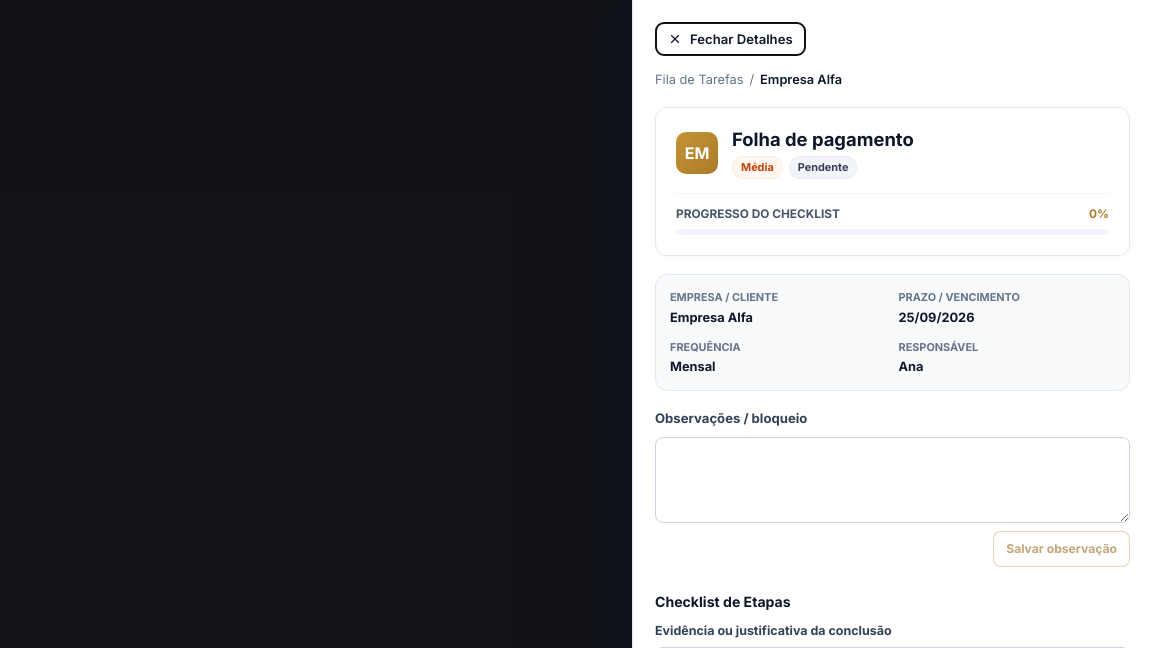
it: TaskDetailsDrawer › mantém o rascunho e mostra o erro quando a observação falha
Step 1. Type "Rascunho preservado." into the text box labelled "Observações / bloqueio" → (892, 480), box [655,437,1130,523]
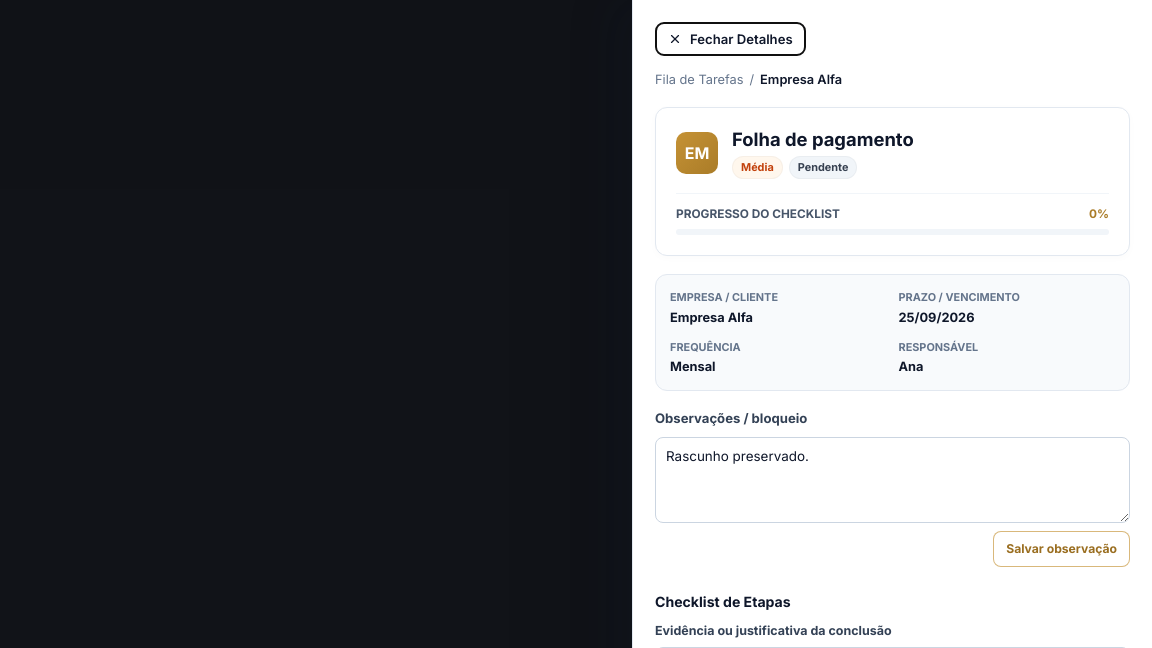
Step 2. Click the button "Salvar observação" → (1062, 549), box [993,531,1130,567]
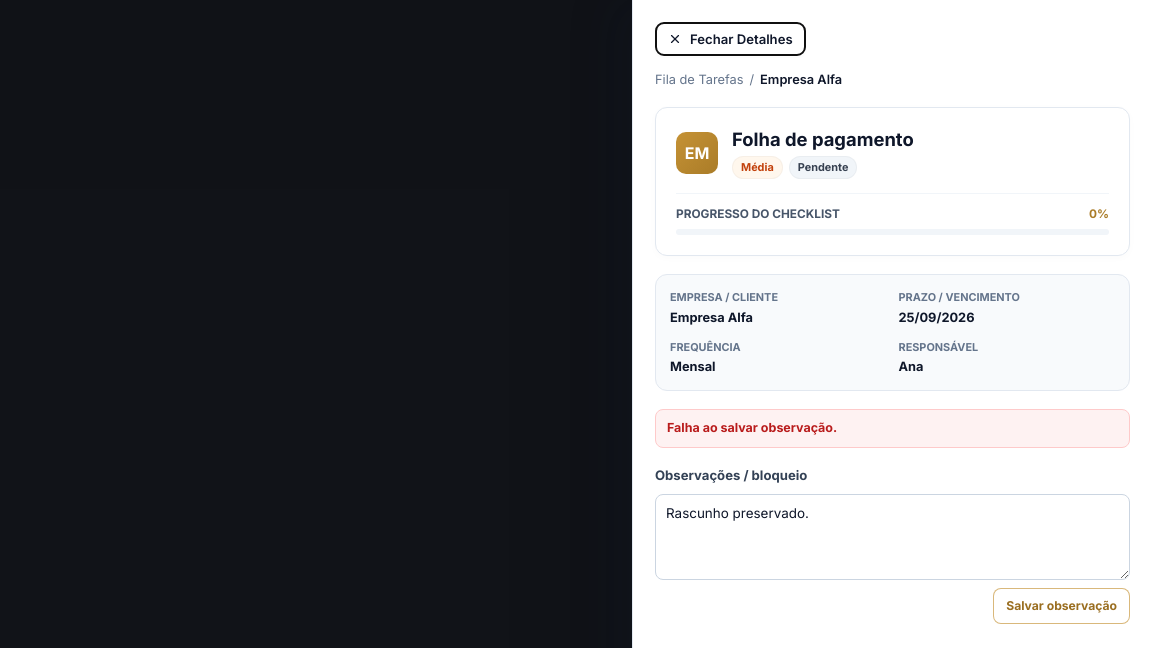
Now the button "Salvar observação" is enabled, box [993,588,1130,624]
Now the message reads "Falha ao salvar observação.", box [667,420,837,435]
